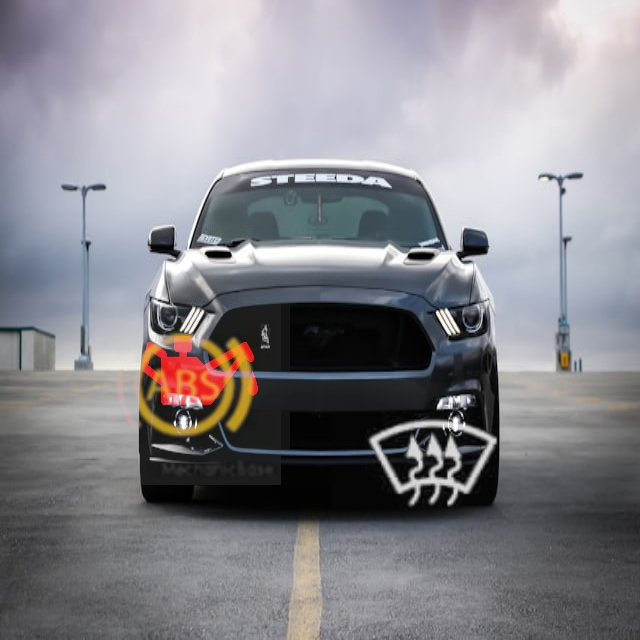symbol: (332, 362, 538, 568), (84, 288, 281, 485), (111, 274, 290, 453)
